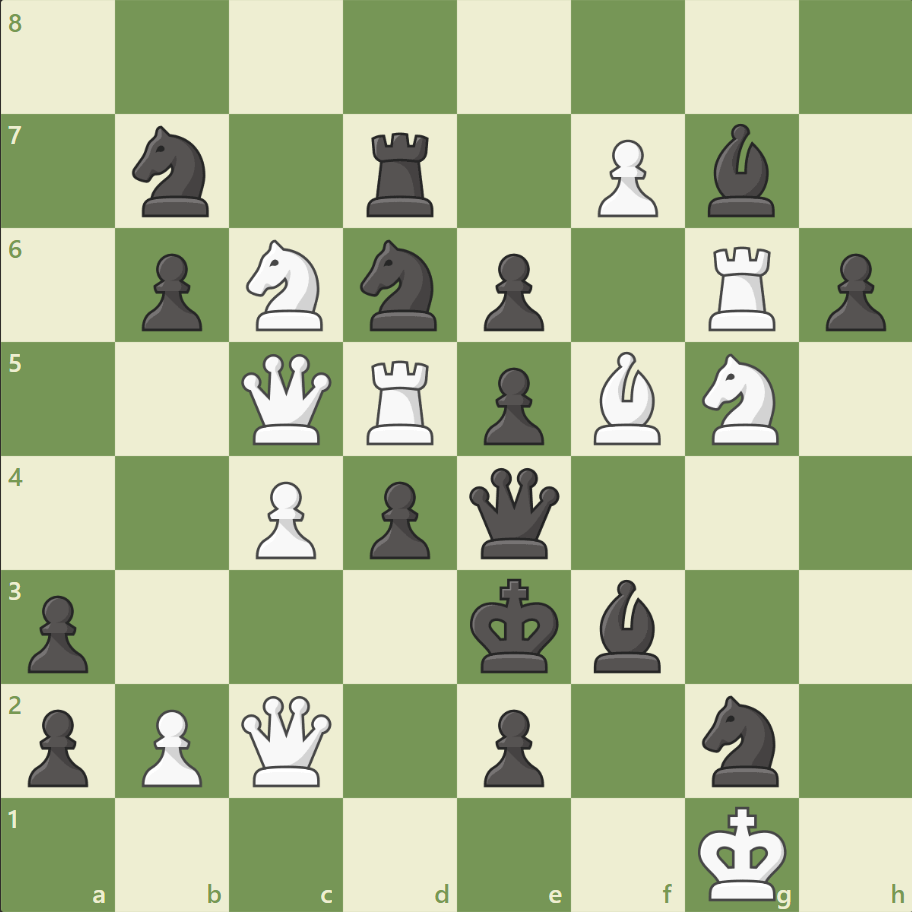B: (585, 347, 669, 449)
K: (692, 798, 792, 906)
N: (238, 234, 335, 337), (692, 348, 789, 450)
P: (247, 473, 322, 564), (133, 700, 208, 791), (588, 132, 662, 223)
Q: (237, 349, 336, 449), (237, 690, 336, 789)
R: (700, 239, 783, 336), (360, 352, 442, 449)
b: (698, 120, 782, 222), (585, 574, 669, 676)
k: (465, 571, 565, 679)
n: (351, 234, 449, 337), (124, 121, 222, 223), (692, 688, 789, 791)
p: (133, 246, 208, 337), (474, 246, 549, 337), (474, 359, 549, 450), (20, 586, 95, 677), (20, 700, 95, 791), (474, 700, 549, 791), (815, 246, 889, 337), (361, 473, 435, 564)
q: (464, 463, 563, 562)
r: (360, 125, 442, 222)
